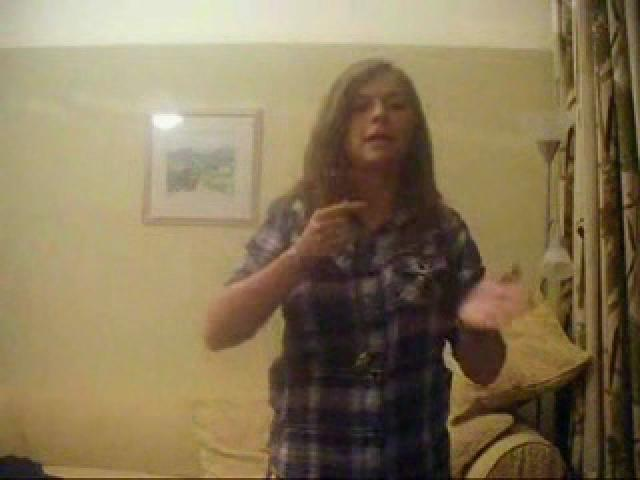F: (203, 59, 503, 478)
